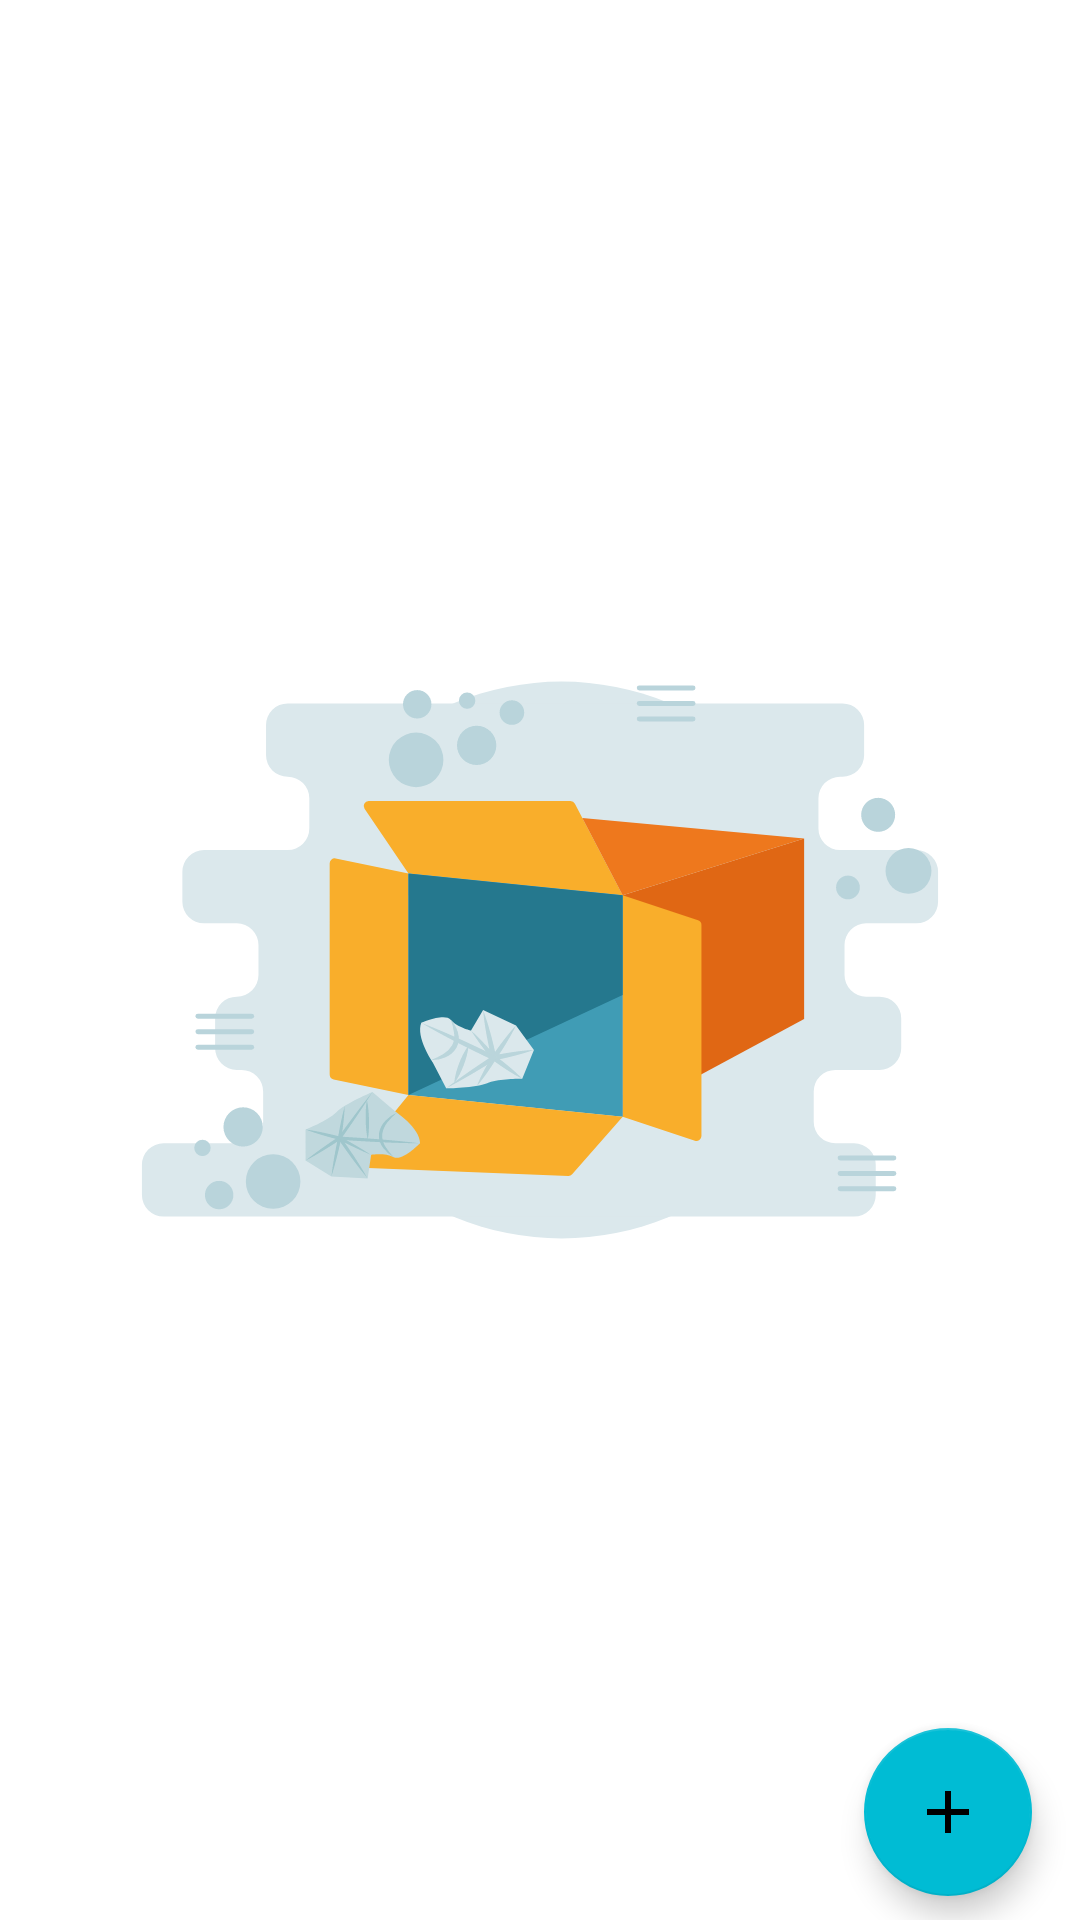

Screen size 1080px x 1920px. Icon name, then its box in pixels as (x1, y1, x2, y2):
add: (864, 1728, 1032, 1896)
